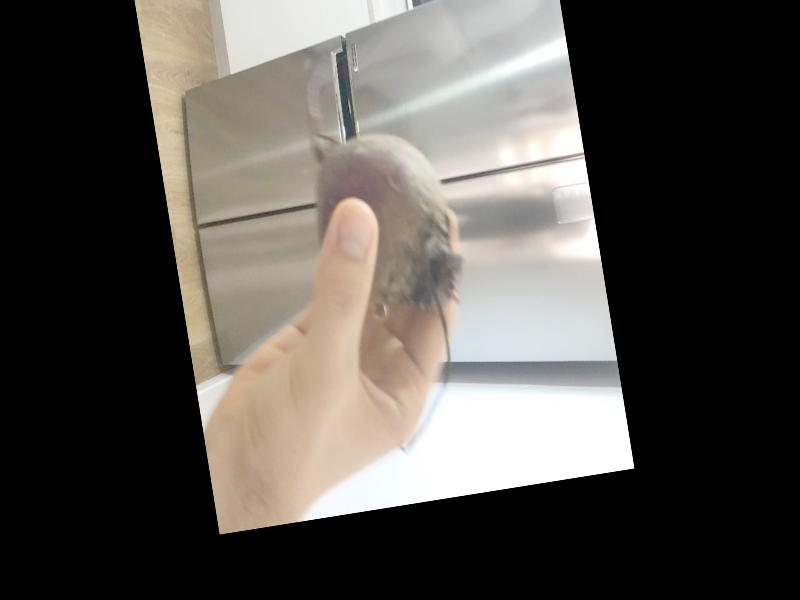Beet: (300, 93, 490, 459)
